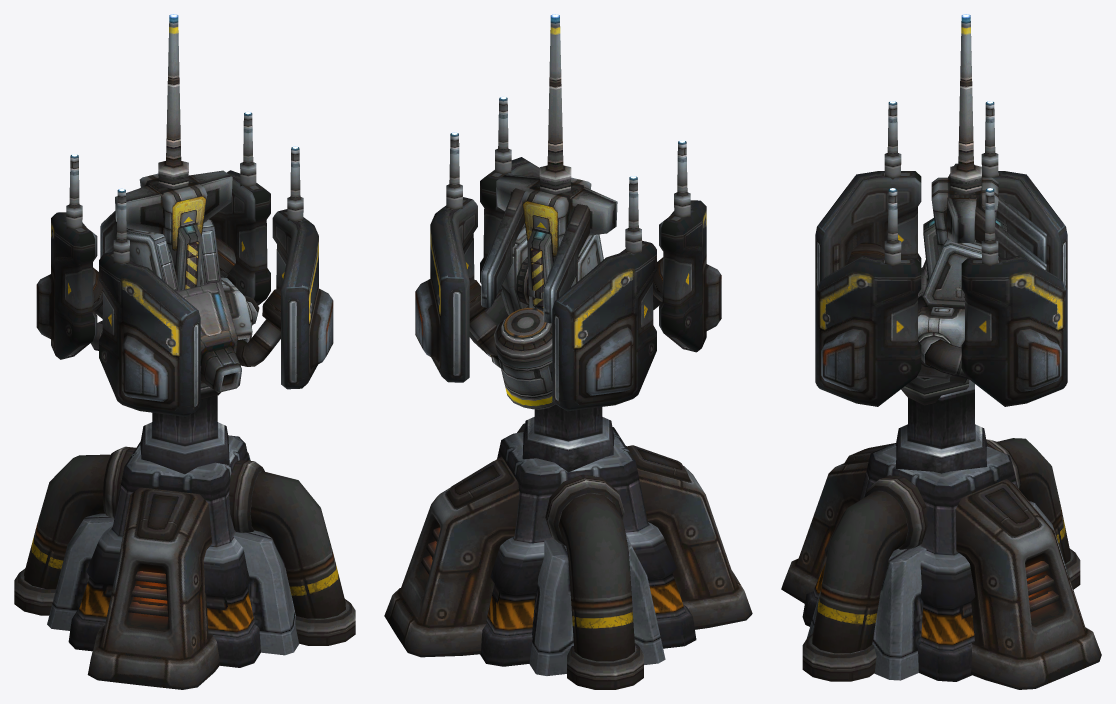
Rendered from RelayTower.glb.
The picture shows the model from 3 angles, left to right: view 1: azimuth 30°, elevation 25°; view 2: azimuth 150°, elevation 25°; view 3: azimuth 270°, elevation 25°; orthographic projection. The views are drawn at different scales.
Parts seen in each view (by area): view 1: Mesh, Mesh.004, Mesh.008; view 2: Mesh, Mesh.004, Mesh.008; view 3: Mesh, Mesh.004, Mesh.008.
Boxes of the visible parts, x1,y1,x2,y2 form: Mesh: (14, 170, 355, 689); Mesh.004: (47, 395, 298, 667); Mesh.008: (66, 14, 303, 399); Mesh: (384, 157, 752, 689); Mesh.004: (480, 404, 696, 675); Mesh.008: (446, 14, 690, 409); Mesh: (781, 171, 1101, 689); Mesh.004: (802, 380, 1054, 681); Mesh.008: (884, 14, 1006, 405).
Bounding box in the file's own units: 1.71 × 3.58 × 1.71.
Materials: 12 (12 with a texture image).
